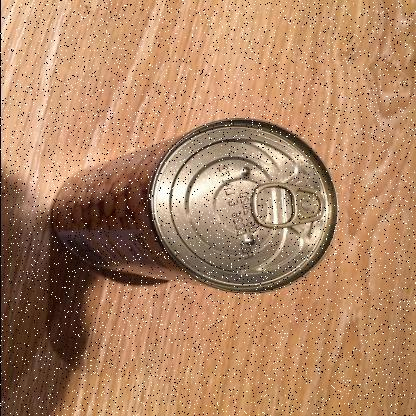metal: (50, 116, 340, 295)
